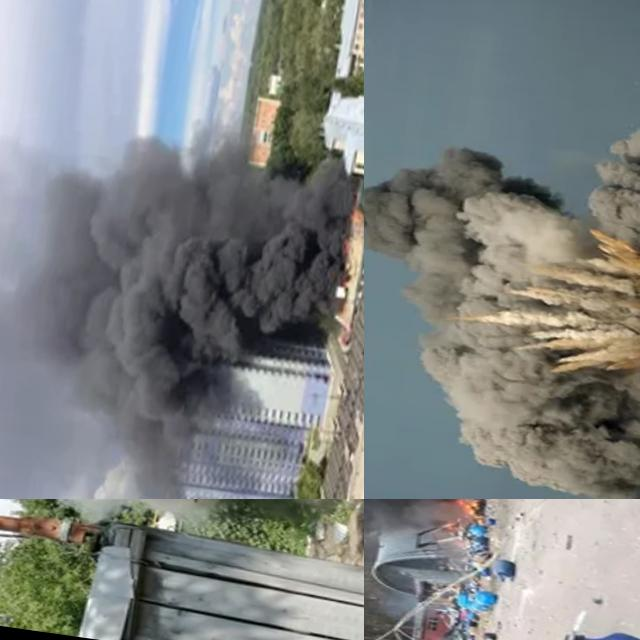smoke: (8, 116, 360, 499), (364, 64, 640, 499), (364, 499, 492, 640)
